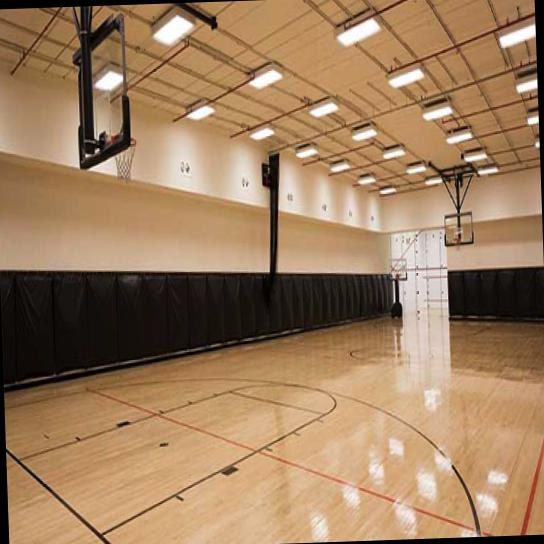basketball-hoop: (110, 133, 138, 187), (453, 235, 462, 252)
